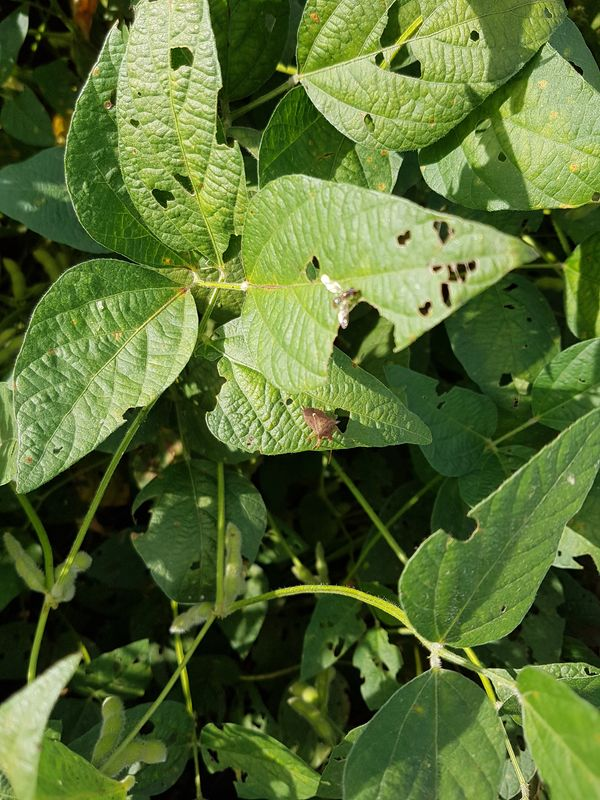Euschistus_heros_adulto: (286, 395, 352, 457)
